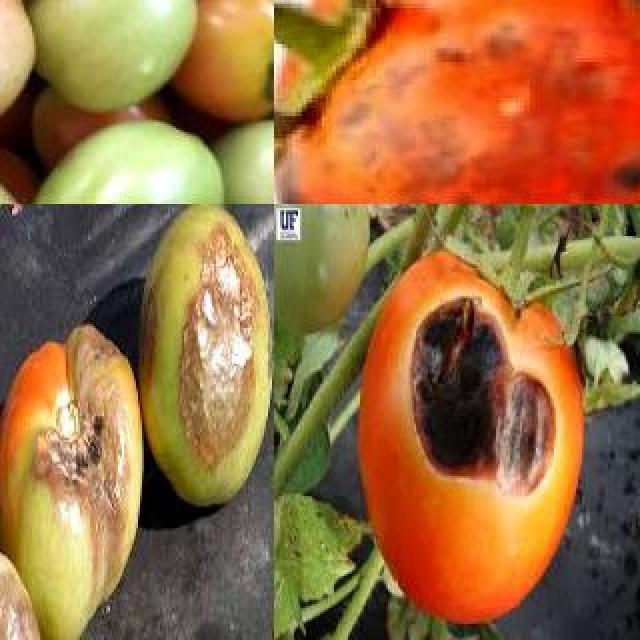Rotten_Tomato: (358, 250, 586, 626), (274, 0, 640, 204), (0, 328, 144, 630), (138, 204, 272, 508)
